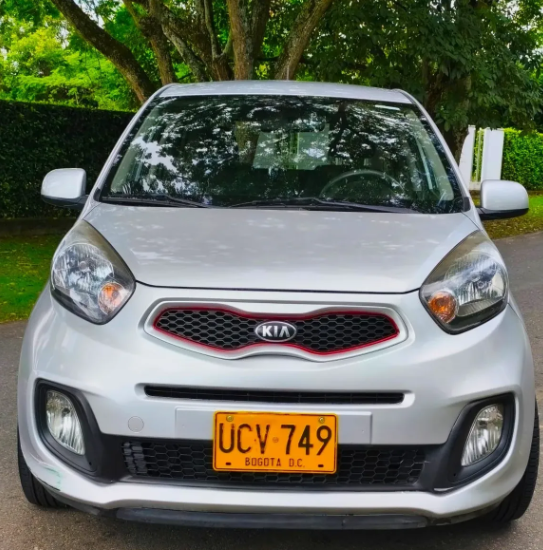placa: (214, 410, 337, 476)
